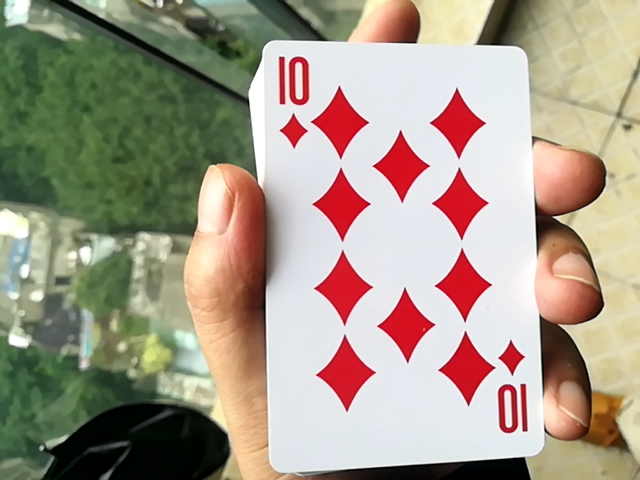fk 10: (246, 30, 548, 468)
